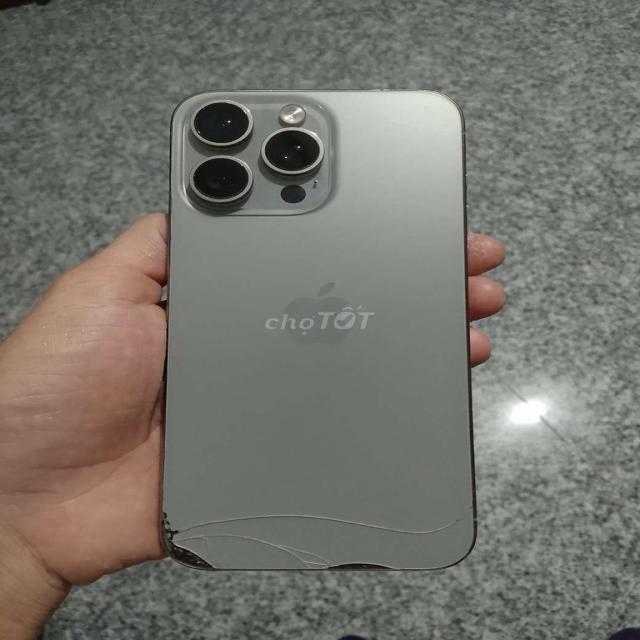gen_15: (133, 70, 492, 584)
physical_damage: (154, 483, 474, 560), (137, 513, 216, 569)
